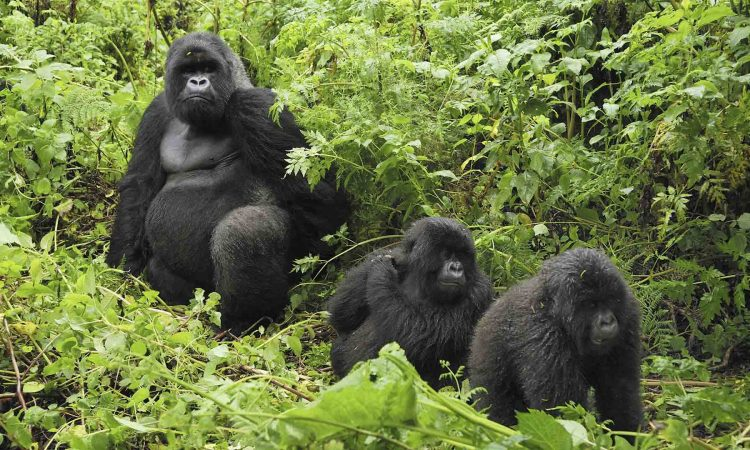Gorilla: (111, 35, 338, 305), (472, 255, 673, 412), (328, 223, 497, 371)
